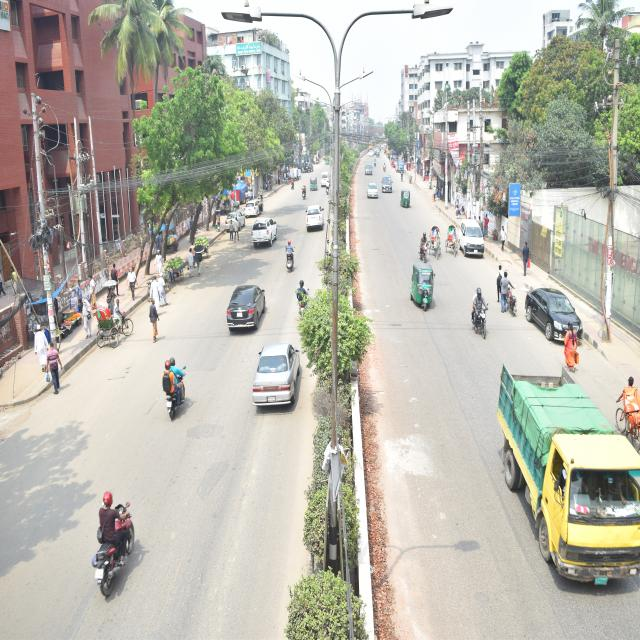car: (524, 280, 587, 346), (251, 339, 301, 413), (224, 279, 267, 333), (252, 216, 278, 254), (306, 202, 329, 235), (225, 210, 245, 235), (244, 194, 261, 220), (366, 180, 380, 205)
microbus: (458, 217, 488, 258), (380, 172, 395, 196)
motorbike: (82, 508, 140, 602), (156, 365, 188, 420), (464, 296, 488, 346), (501, 280, 520, 323), (415, 236, 433, 266), (284, 247, 297, 276)
truck: (492, 356, 640, 596)
